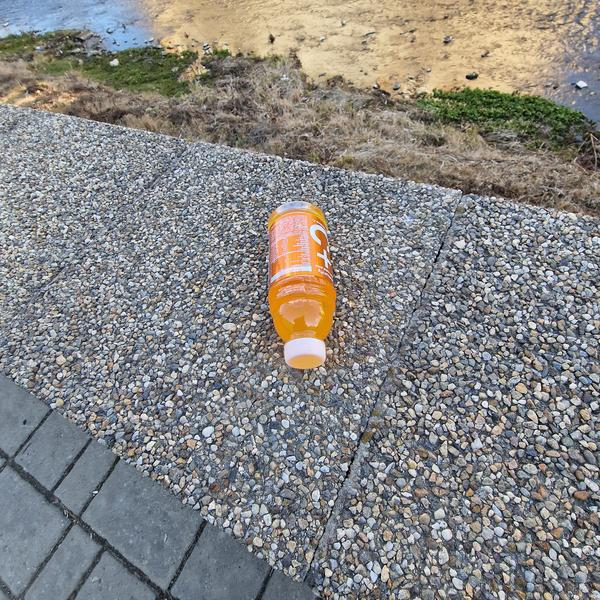plastic_bottle: (268, 200, 336, 370)
